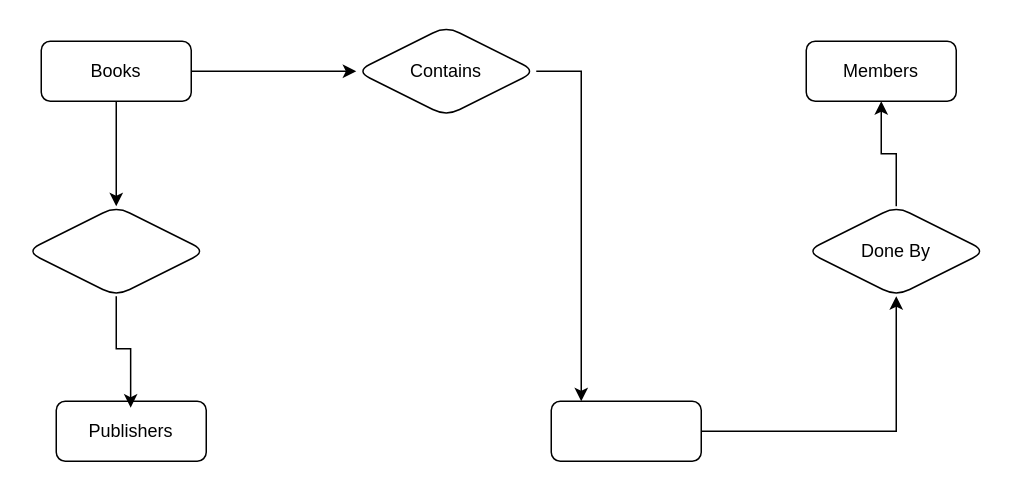
This 1013x488 diagram has some shape labels left out. The centre of each missing label's shape, as x and y in pixels:
Loans: the point at 625,430
Published By: the point at 115,250
